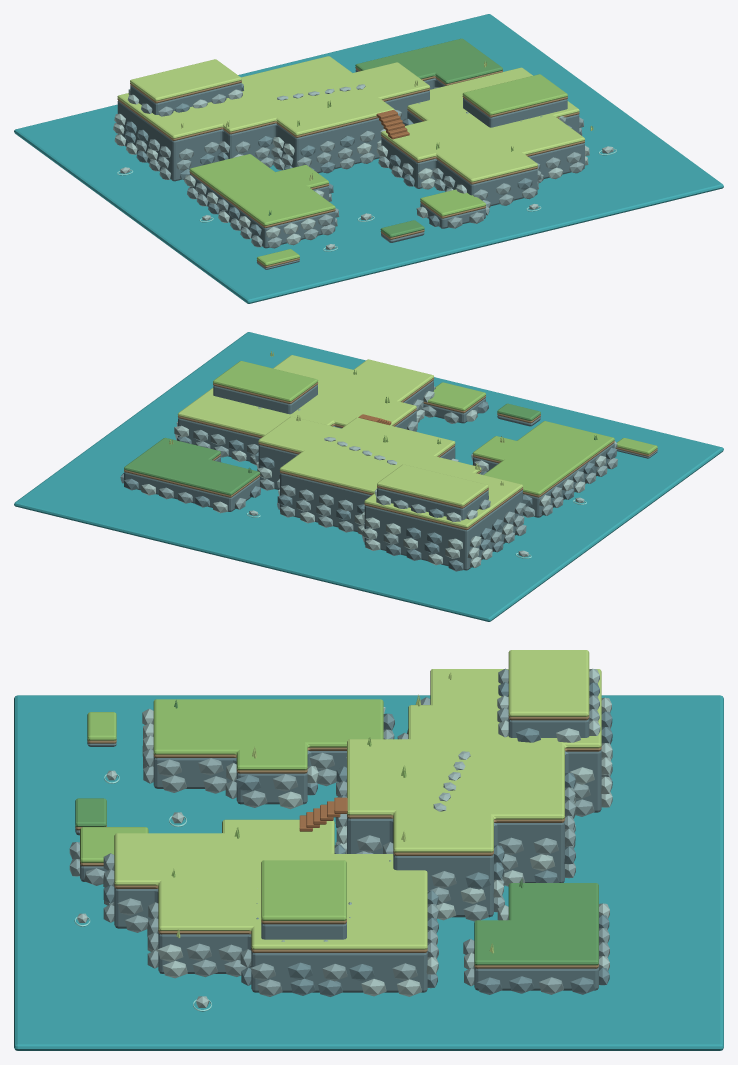
The model's file is terrain.glb.
3 renders of one model, top to bottom at view 1: azimuth 30°, elevation 25°; view 2: azimuth 150°, elevation 25°; view 3: azimuth 270°, elevation 25°, orthographic. The views are drawn at different scales.
Visible parts, largest first — view 1: Water_Plane.001, Highland_Main_GrassCap.001, Village_Island_GrassCap.001, Highland_Main_RockBody.001, Western_Lowland_GrassCap.001, Village_Island_RockBody.001, Northern_Forest_GrassCap.001, Castle_Terrace_GrassCap.001, Village_Terrace_GrassCap.001, Western_Lowland_RockBody.001, Village_Terrace_RockBody.001, Watchtower_Islet_GrassCap.001 (+3 smaller); view 2: Water_Plane.001, Highland_Main_GrassCap.001, Village_Island_GrassCap.001, Highland_Main_RockBody.001, Western_Lowland_GrassCap.001, Northern_Forest_GrassCap.001, Castle_Terrace_GrassCap.001, Village_Terrace_GrassCap.001, Village_Island_RockBody.001, Northern_Forest_RockBody.001, Village_Terrace_RockBody.001, Watchtower_Islet_GrassCap.001 (+3 smaller); view 3: Water_Plane.001, Highland_Main_GrassCap.001, Village_Island_GrassCap.001, Western_Lowland_GrassCap.001, Northern_Forest_GrassCap.001, Highland_Main_RockBody.001, Village_Island_RockBody.001, Castle_Terrace_GrassCap.001, Village_Terrace_GrassCap.001, Western_Lowland_RockBody.001, Northern_Forest_RockBody.001, Watchtower_Islet_GrassCap.001 (+7 smaller).
Boxes of the visible parts, box(x1,y1,x2,y2) form: Water_Plane.001: box(14, 14, 723, 303); Highland_Main_GrassCap.001: box(117, 56, 430, 138); Village_Island_GrassCap.001: box(381, 67, 584, 182); Highland_Main_RockBody.001: box(117, 90, 429, 181); Western_Lowland_GrassCap.001: box(189, 154, 335, 225); Village_Island_RockBody.001: box(381, 111, 584, 205); Northern_Forest_GrassCap.001: box(355, 38, 502, 83); Castle_Terrace_GrassCap.001: box(130, 59, 241, 101); Village_Terrace_GrassCap.001: box(462, 74, 567, 115); Western_Lowland_RockBody.001: box(189, 173, 335, 248); Village_Terrace_RockBody.001: box(463, 98, 567, 127); Watchtower_Islet_GrassCap.001: box(420, 189, 485, 216); Water_Plane.001: box(14, 332, 723, 621); Highland_Main_GrassCap.001: box(258, 416, 523, 527); Village_Island_GrassCap.001: box(177, 355, 433, 436); Highland_Main_RockBody.001: box(258, 445, 522, 570); Western_Lowland_GrassCap.001: box(473, 421, 614, 495); Northern_Forest_GrassCap.001: box(124, 437, 260, 495); Castle_Terrace_GrassCap.001: box(377, 464, 488, 506); Village_Terrace_GrassCap.001: box(213, 361, 318, 401); Village_Island_RockBody.001: box(178, 380, 433, 461); Northern_Forest_RockBody.001: box(124, 456, 259, 511); Village_Terrace_RockBody.001: box(213, 384, 317, 414); Watchtower_Islet_GrassCap.001: box(428, 382, 485, 410); Water_Plane.001: box(14, 695, 723, 1050); Highland_Main_GrassCap.001: box(347, 669, 601, 852); Village_Island_GrassCap.001: box(114, 819, 427, 949); Western_Lowland_GrassCap.001: box(153, 699, 383, 770); Northern_Forest_GrassCap.001: box(474, 883, 598, 965); Highland_Main_RockBody.001: box(347, 749, 601, 917); Village_Island_RockBody.001: box(114, 887, 427, 992); Castle_Terrace_GrassCap.001: box(508, 650, 589, 716); Village_Terrace_GrassCap.001: box(261, 860, 346, 920); Western_Lowland_RockBody.001: box(153, 750, 346, 804); Northern_Forest_RockBody.001: box(474, 967, 598, 990); Watchtower_Islet_GrassCap.001: box(80, 827, 148, 862).
Bounding box in the file's own units: 34 × 4.71 × 29.
